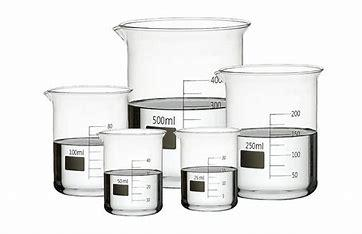Beaker: (95, 127, 171, 216), (179, 121, 241, 215)
